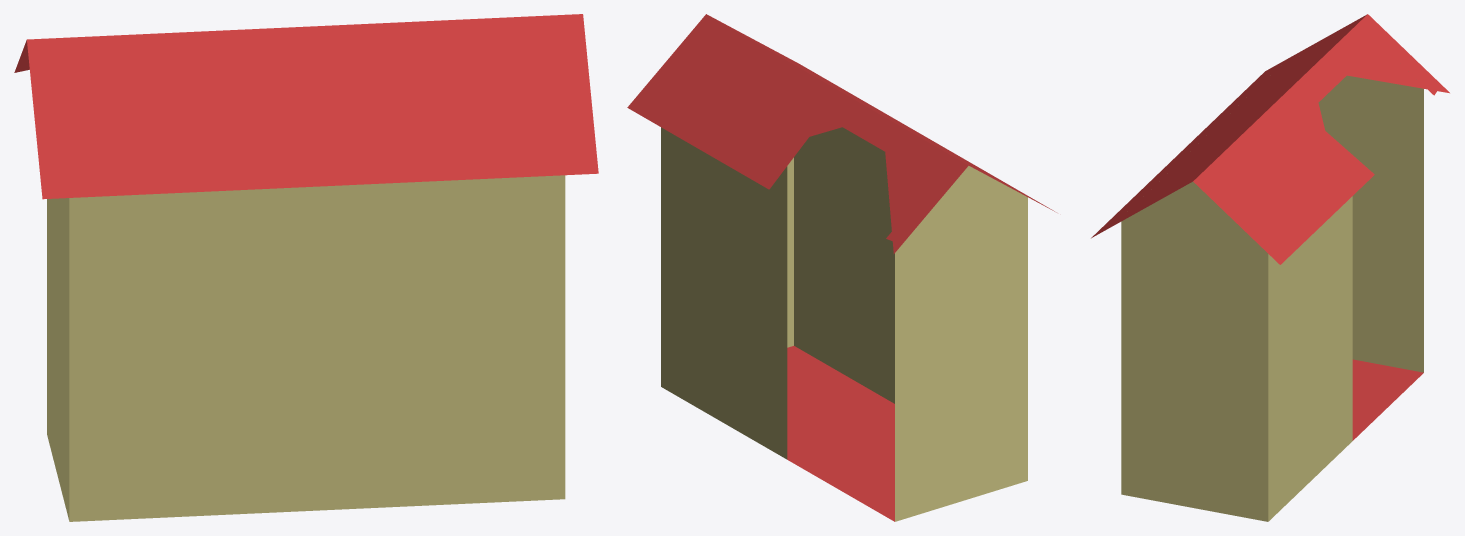
3 renders of one model, left to right at view 1: azimuth 30°, elevation 25°; view 2: azimuth 150°, elevation 25°; view 3: azimuth 270°, elevation 25°, orthographic. The views are drawn at different scales.
Bounding box in the file's own units: 15.28 × 11.47 × 11.85.
